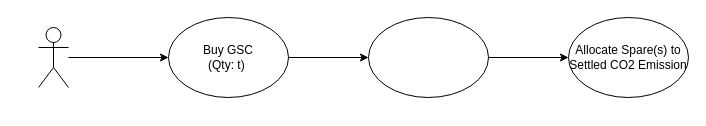
Image size: 706x126. Some labels were removed from this diagram. The centre of each missing label's shape, as x and y in pixels:
"Compensator" belongs at [53,57].
"Split in Spares (Qty: g)" belongs at [428,57].
